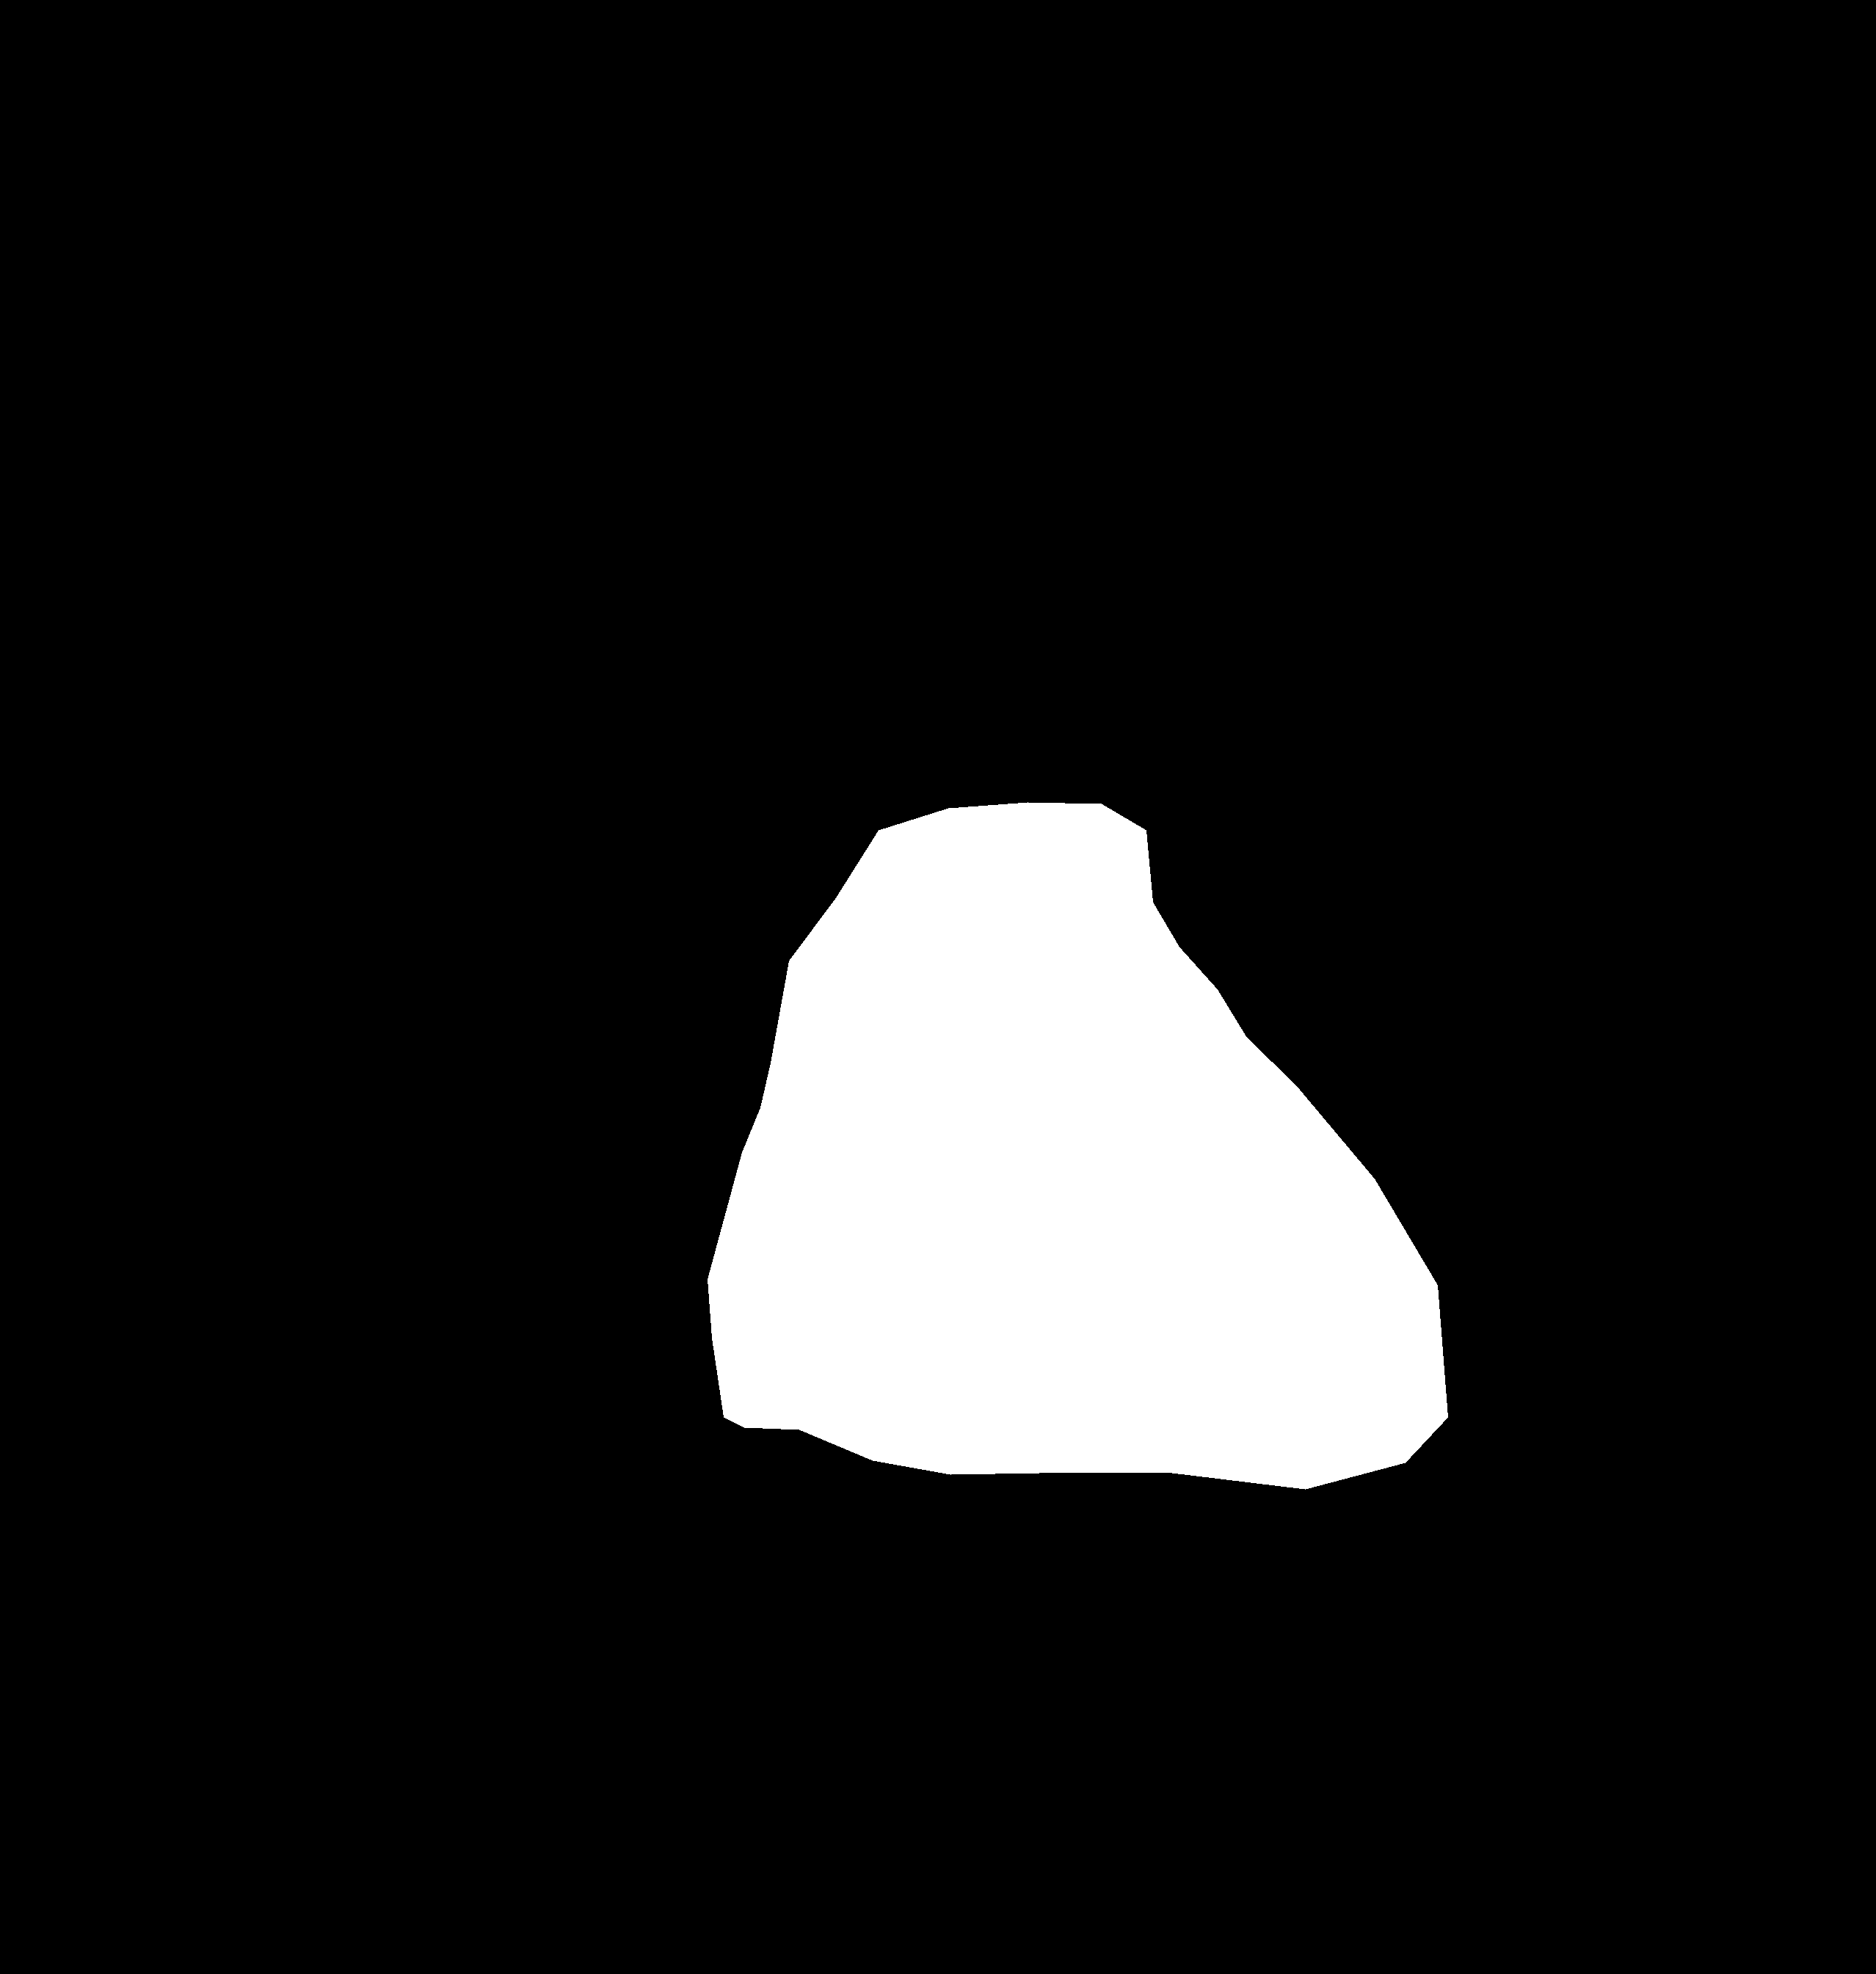heart: (707, 802, 1448, 1489)
left_lung: (65, 194, 878, 1710)
right_lung: (1016, 204, 1696, 1458)
